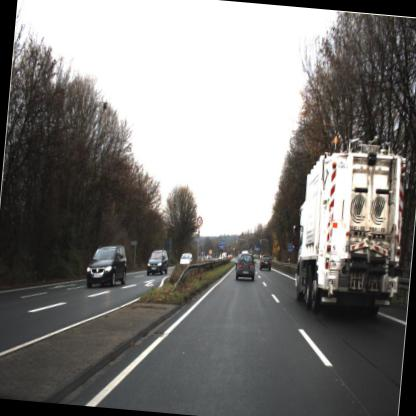prohibitory: (194, 214, 206, 230)
